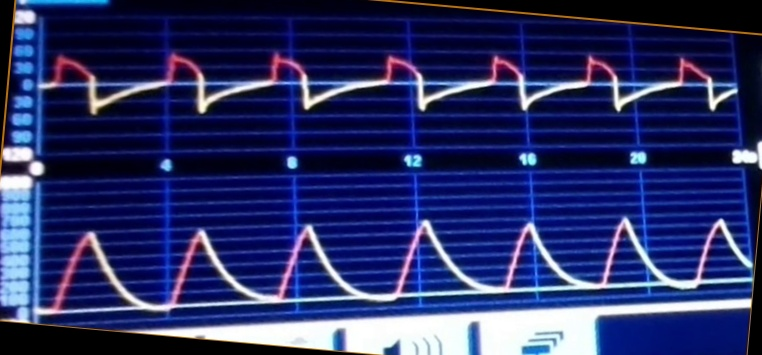Normal Flow: (44, 39, 737, 145)
Normal Volume: (42, 214, 751, 313)
